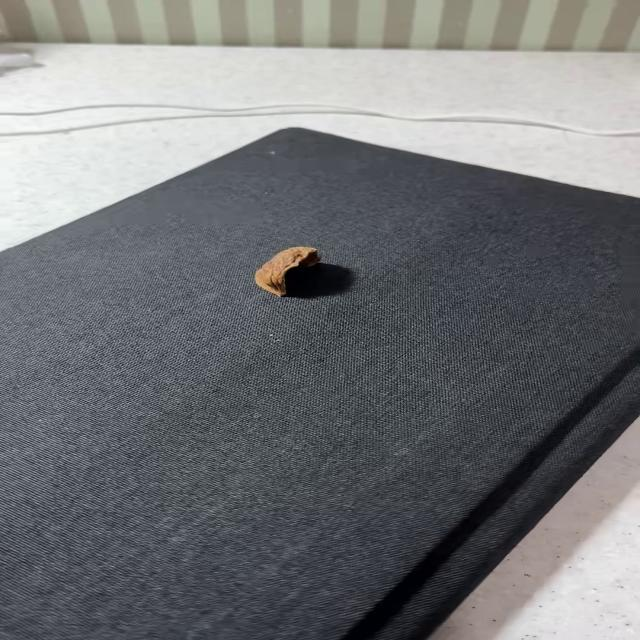nuts-bad0.25: (255, 246, 320, 296)
